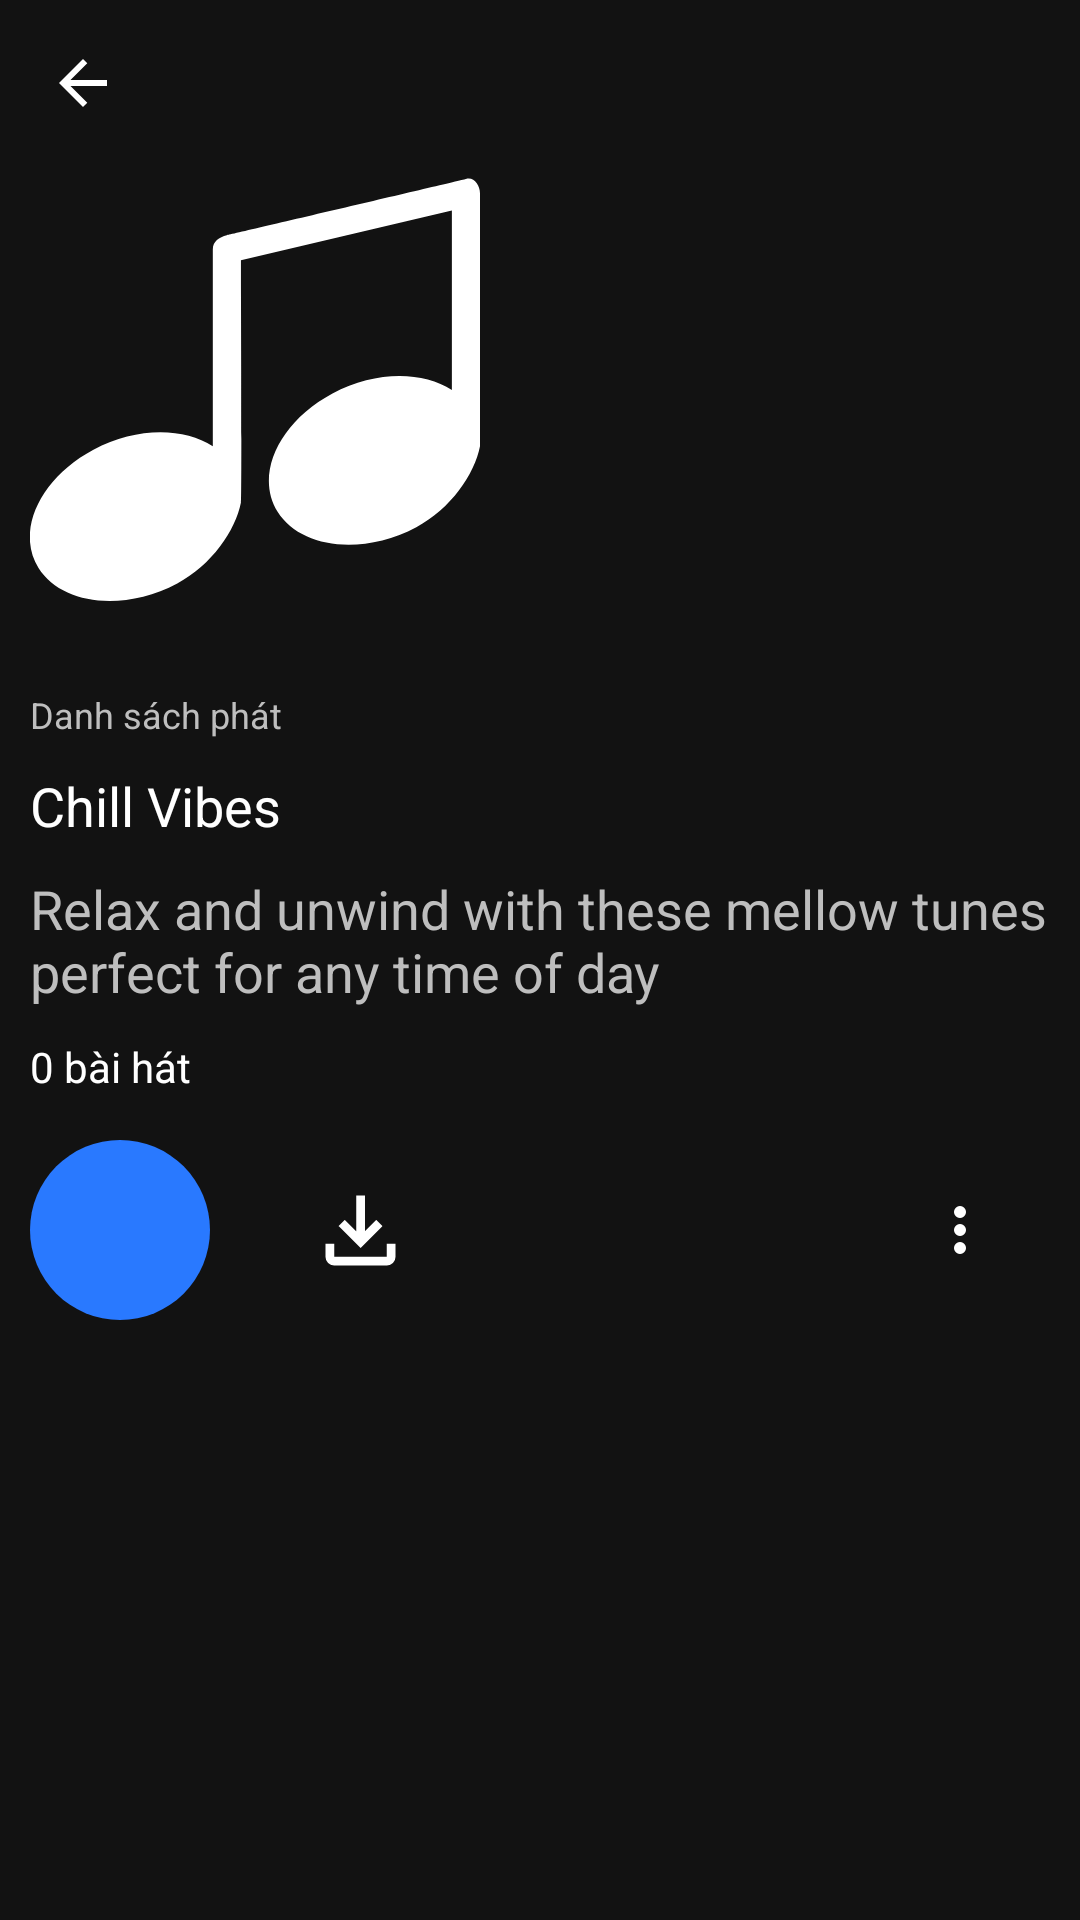

Icon click points for this 1080px×1920px phone screenshot, format (x,y):
arrow back: (83,83)
download: (360,1230)
more vertical: (960,1230)
